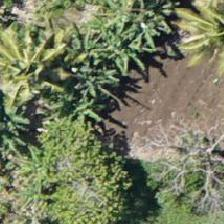coconut_tree: (0, 145, 70, 223), (171, 0, 223, 72)
